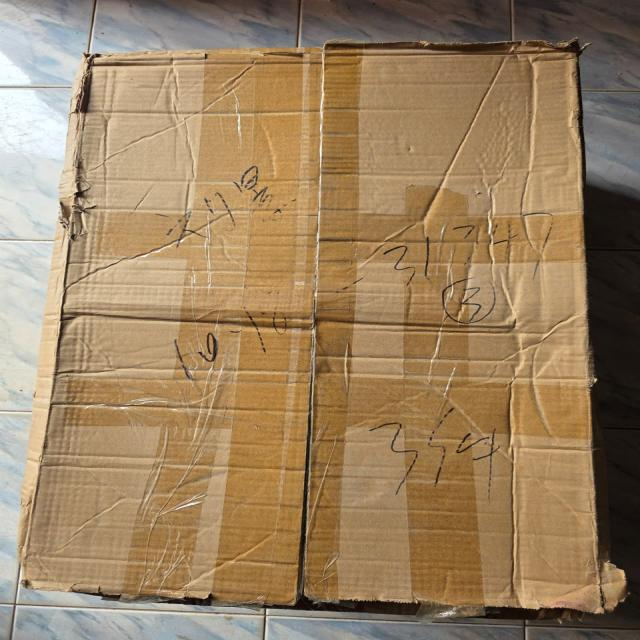carton_box: (9, 29, 634, 630)
package_damage: (2, 548, 633, 622), (49, 33, 118, 258), (272, 29, 608, 68), (294, 291, 322, 608)
